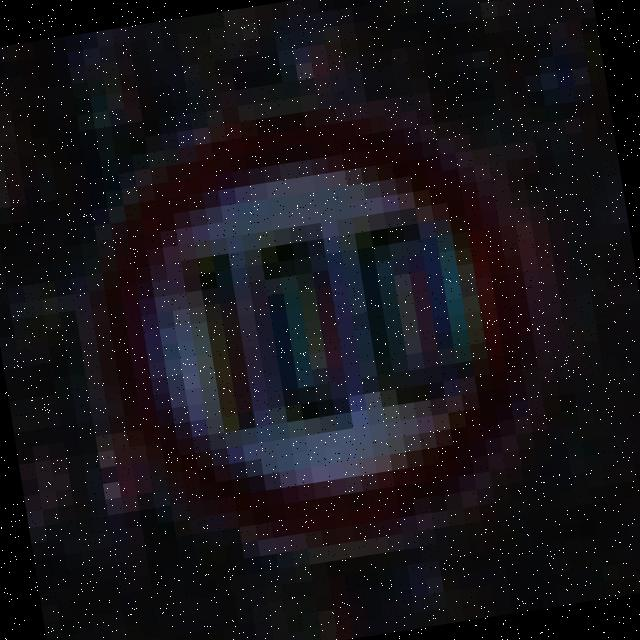Ograniczenie predkosci do 100: (68, 72, 570, 578)
